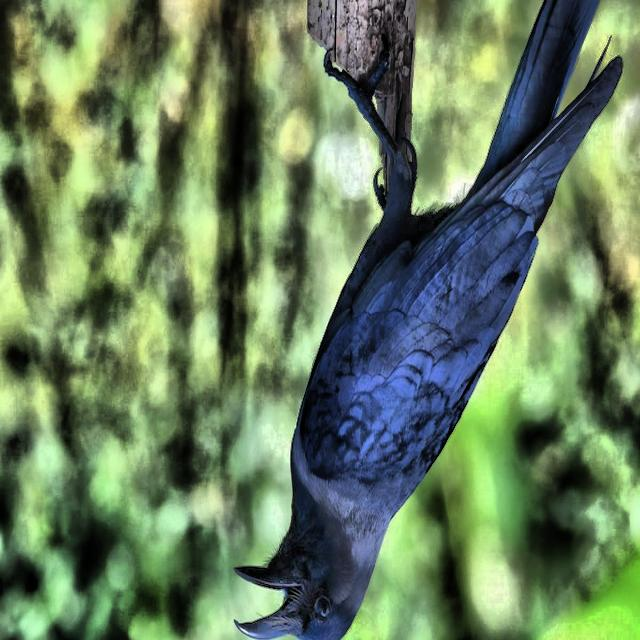crow: (194, 1, 640, 640)
